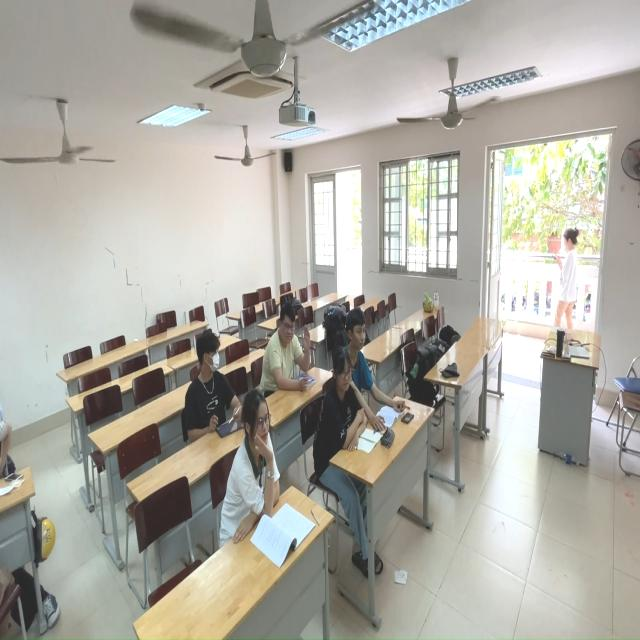raise_hand: (214, 387, 287, 543), (263, 301, 321, 391)
read: (338, 307, 410, 413), (185, 324, 244, 436), (316, 338, 378, 443)
